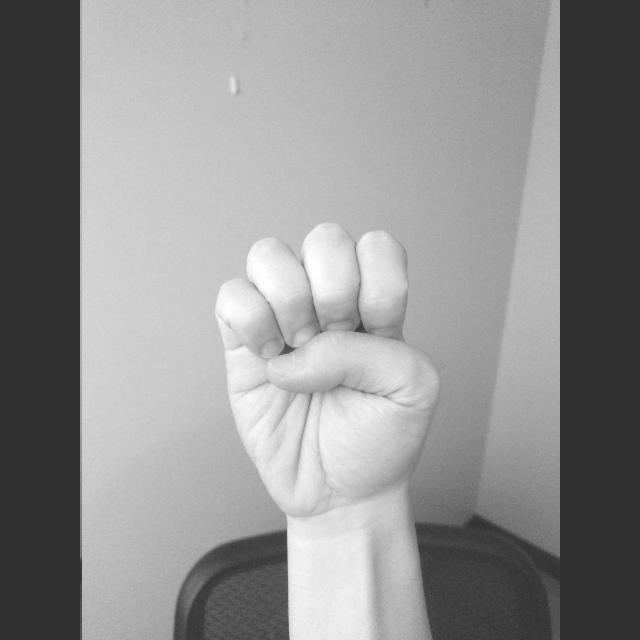E: (208, 218, 446, 522)
